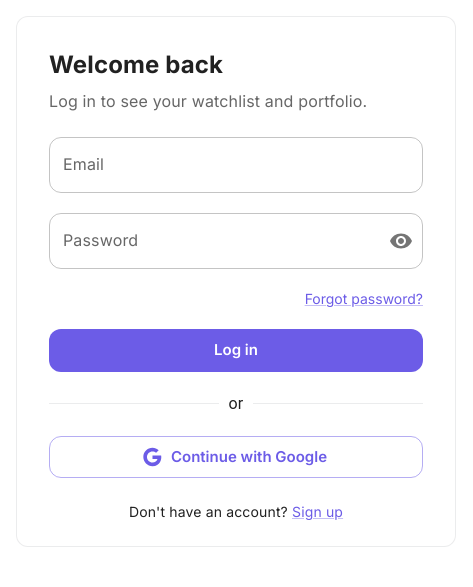
Scenario: LoginPage › rejects an invalid email
In the field labelled "Email": (236, 165) [49,137,423,193], type "not-an-email"
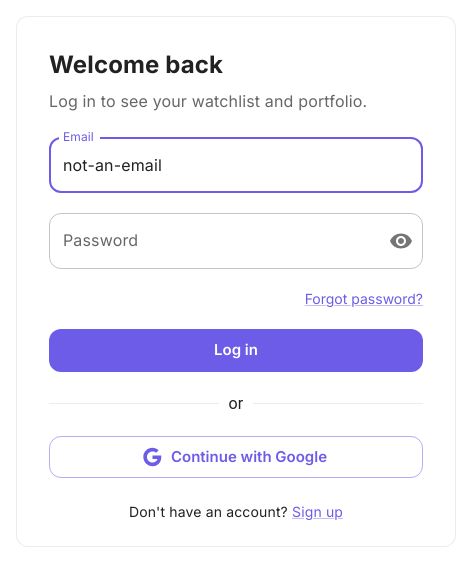
In the password field labelled "Password": (211, 241) [49,213,373,269], type "secret123"
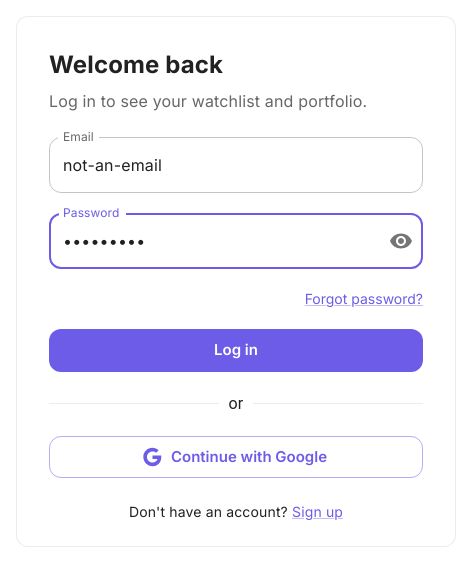
Click the button "Log in": (236, 351) [49,329,423,372]
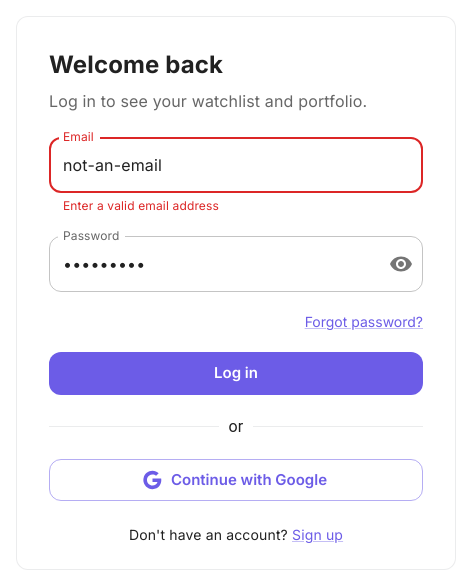
Now the text "Enter a valid email address" is shown, box [63,198,219,213]
